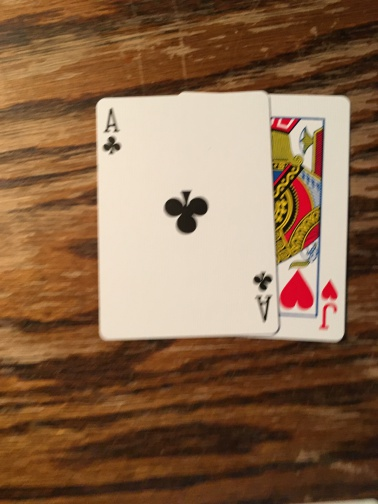ace: (96, 92, 280, 340)
jack: (267, 92, 349, 344)
